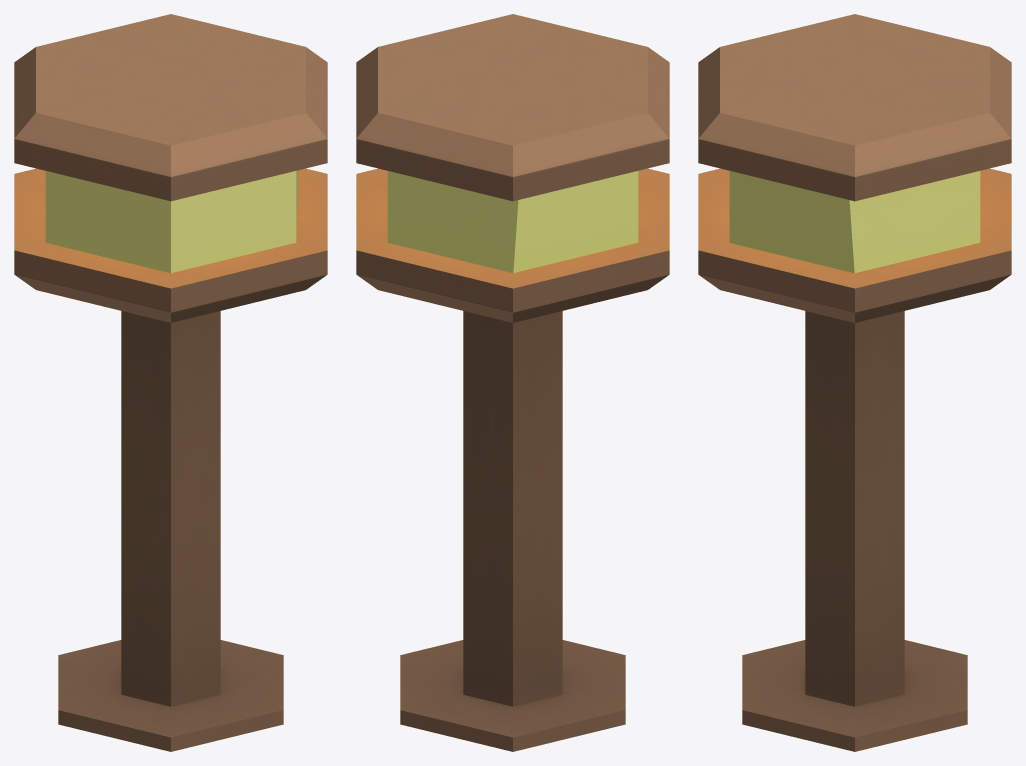
Rendered from Lanterne2.FBX.
The picture shows the model from 3 angles, left to right: view 1: azimuth 30°, elevation 25°; view 2: azimuth 150°, elevation 25°; view 3: azimuth 270°, elevation 25°; orthographic projection.
Visible parts, largest first — view 1: Lanterne2; view 2: Lanterne2; view 3: Lanterne2.
Part boxes in pixels (bbox=[...]): Lanterne2: bbox=[14, 14, 327, 751]; Lanterne2: bbox=[356, 14, 669, 751]; Lanterne2: bbox=[698, 14, 1011, 751].
Size of the model in its own units: 0.9467 by 1.78 by 0.8198.
